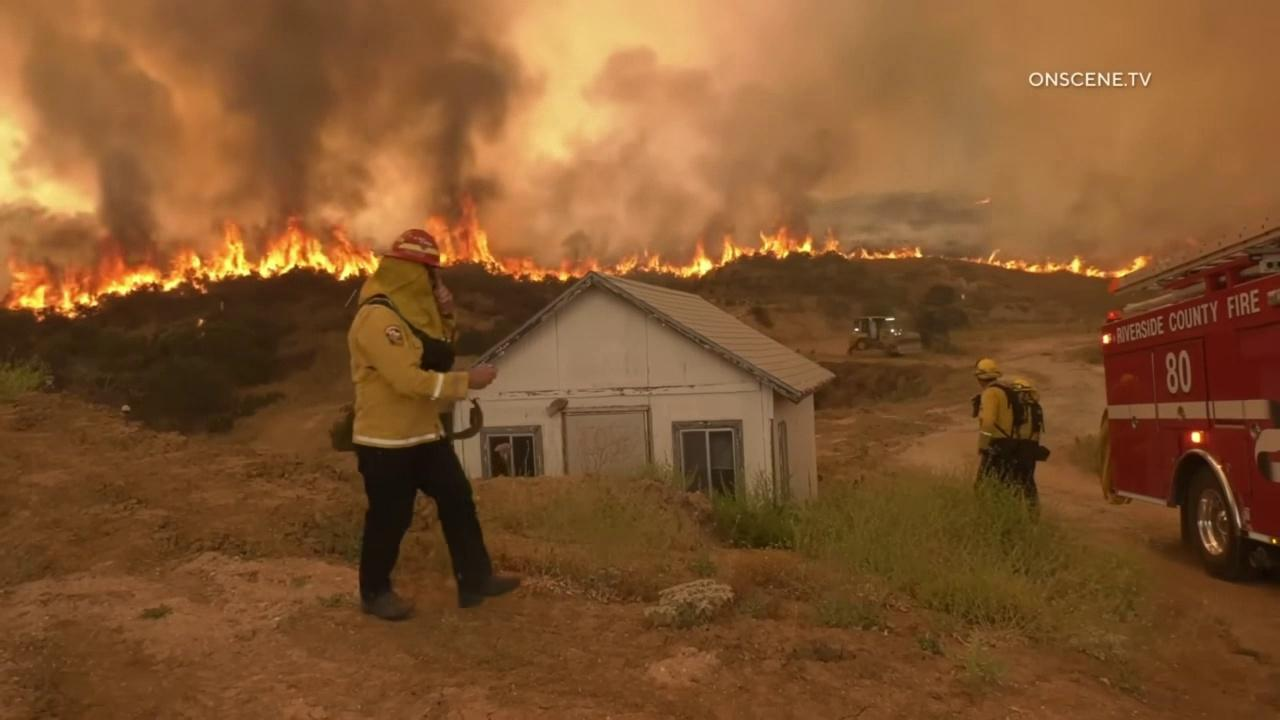fire: (423, 190, 925, 282), (0, 207, 385, 324), (958, 248, 1152, 279), (975, 196, 991, 206), (196, 318, 204, 327)
smoke: (0, 0, 1280, 270)
